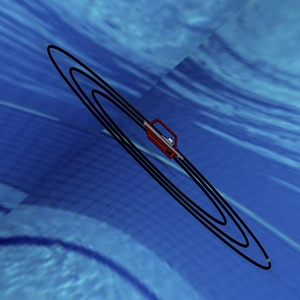circle: (40, 32, 278, 282)
submarine: (131, 110, 190, 167)
